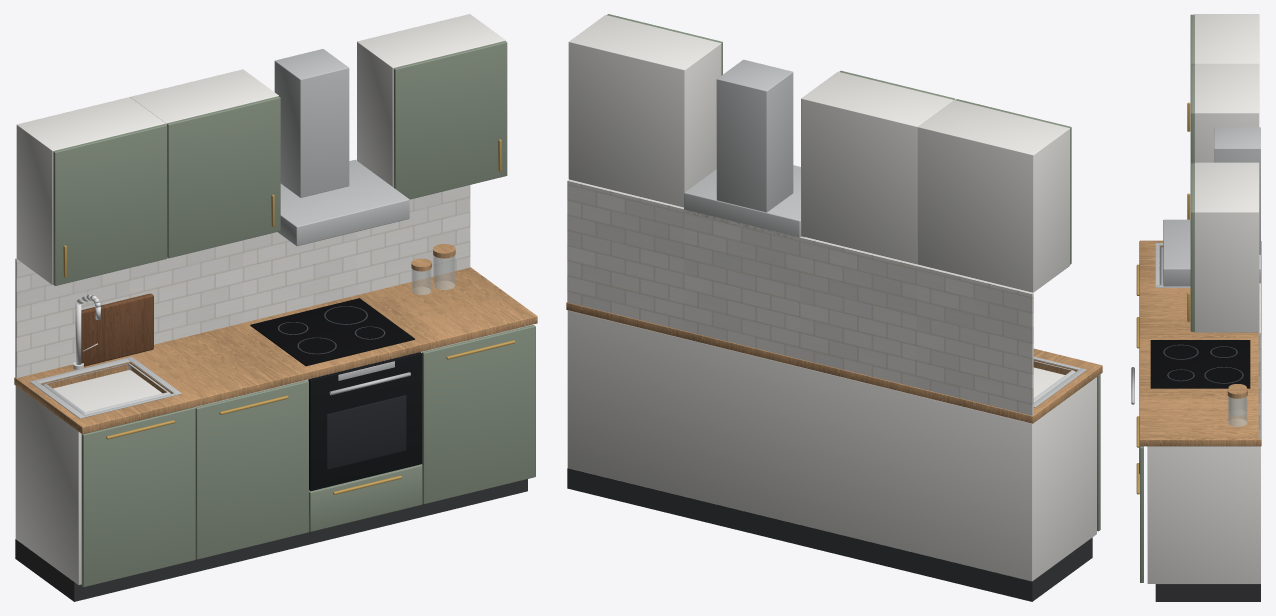
The model's file is kitchen-sage.glb.
The picture shows the model from 3 angles, left to right: view 1: azimuth 30°, elevation 25°; view 2: azimuth 150°, elevation 25°; view 3: azimuth 270°, elevation 25°; orthographic projection. The views are drawn at different scales.
Parts seen in each view (by area): view 1: splash, worktop, door, front, front.001, upper-door, upper-door.001, upper-door.002, carcass, chimney, upper, upper.002 (+10 smaller); view 2: carcass, splash, upper, upper.002, upper.001, plinth, chimney, worktop, hood; view 3: carcass, worktop, upper.002, upper.001, hob, upper, hood, plinth, chimney, upper-door.002, jar1, front.001 (+10 smaller).
Boxes of the visible parts, <box> form: splash: <box>15,185,470,377</box>; worktop: <box>14,267,537,434</box>; door: <box>81,407,195,587</box>; front: <box>195,380,308,559</box>; front.001: <box>422,325,535,504</box>; upper-door: <box>53,124,167,285</box>; upper-door.001: <box>166,96,280,258</box>; upper-door.002: <box>393,41,507,199</box>; carcass: <box>15,325,531,584</box>; chimney: <box>274,49,349,197</box>; upper: <box>16,97,165,284</box>; upper.002: <box>357,14,505,187</box>; carcass: <box>567,310,1096,581</box>; splash: <box>567,180,1033,415</box>; upper: <box>917,100,1069,292</box>; upper.002: <box>568,15,721,207</box>; upper.001: <box>801,71,953,264</box>; plinth: <box>567,468,1092,601</box>; chimney: <box>716,59,793,212</box>; worktop: <box>566,302,1102,423</box>; hood: <box>684,165,804,238</box>; carcass: <box>1147,446,1260,583</box>; worktop: <box>1139,240,1261,446</box>; upper.002: <box>1194,162,1259,332</box>; upper.001: <box>1194,63,1259,162</box>; hob: <box>1150,340,1250,388</box>; upper: <box>1194,14,1259,63</box>; hood: <box>1163,219,1260,286</box>; plinth: <box>1155,584,1260,601</box>; chimney: <box>1214,127,1260,254</box>; upper-door.002: <box>1190,163,1194,331</box>; jar1: <box>1228,396,1247,426</box>; front.001: <box>1140,446,1143,582</box>.
Size of the model in its own units: 2.41 by 2.2 by 0.6665.
Materials: 15 (3 with a texture image).
